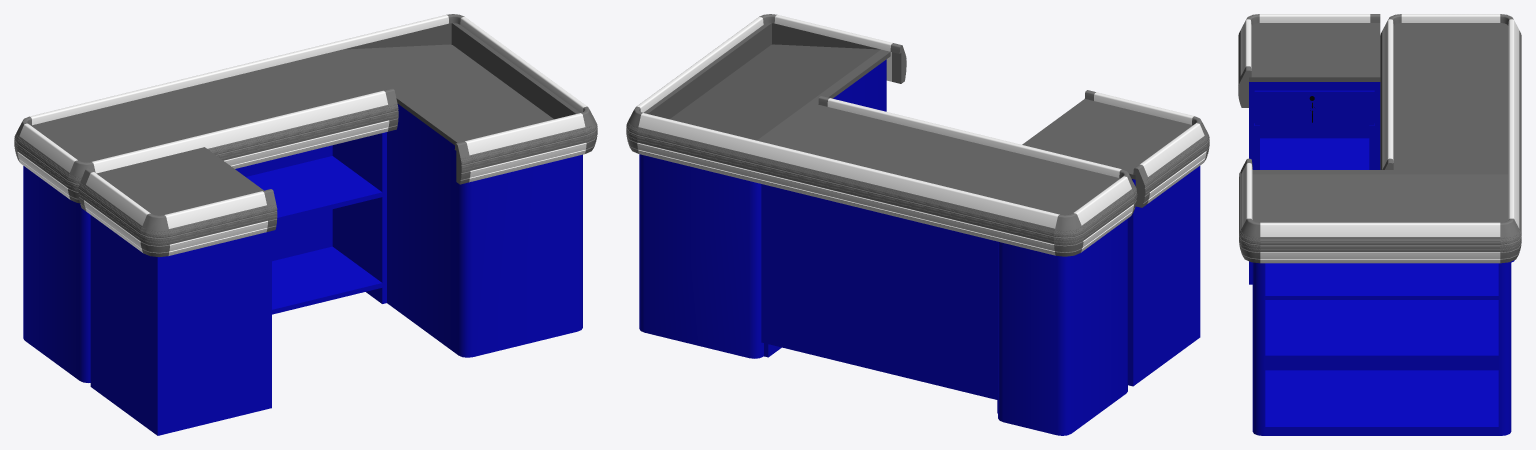
File: checkout.glb
The picture shows the model from 3 angles, left to right: view 1: azimuth 30°, elevation 25°; view 2: azimuth 150°, elevation 25°; view 3: azimuth 270°, elevation 25°; orthographic projection. The views are drawn at different scales.
Parts seen in each view (by area): view 1: Layer:melamina.001, Layer:sobre, Layer:ALuminio anodizado, Layer:Borde Plastico, Layer:esquina; view 2: Layer:melamina.001, Layer:sobre, Layer:ALuminio anodizado, Layer:Borde Plastico, Layer:esquina; view 3: Layer:melamina.001, Layer:sobre, Layer:ALuminio anodizado, Layer:Borde Plastico, Layer:esquina.
Boxes of the visible parts, x1=… form: Layer:melamina.001: x1=23, y1=104, x2=582, y2=435; Layer:sobre: x1=31, y1=23, x2=579, y2=215; Layer:ALuminio anodizado: x1=17, y1=14, x2=586, y2=255; Layer:Borde Plastico: x1=17, y1=105, x2=586, y2=244; Layer:esquina: x1=14, y1=14, x2=597, y2=257; Layer:melamina.001: x1=639, y1=59, x2=1200, y2=435; Layer:sobre: x1=643, y1=23, x2=1192, y2=214; Layer:ALuminio anodizado: x1=636, y1=15, x2=1206, y2=255; Layer:Borde Plastico: x1=637, y1=127, x2=1206, y2=243; Layer:esquina: x1=626, y1=14, x2=1209, y2=256; Layer:melamina.001: x1=1249, y1=82, x2=1514, y2=435; Layer:sobre: x1=1249, y1=23, x2=1508, y2=222; Layer:ALuminio anodizado: x1=1240, y1=14, x2=1521, y2=263; Layer:Borde Plastico: x1=1238, y1=30, x2=1521, y2=251; Layer:esquina: x1=1238, y1=14, x2=1521, y2=263.
Size of the model in its own units: 200 by 92 by 110.
